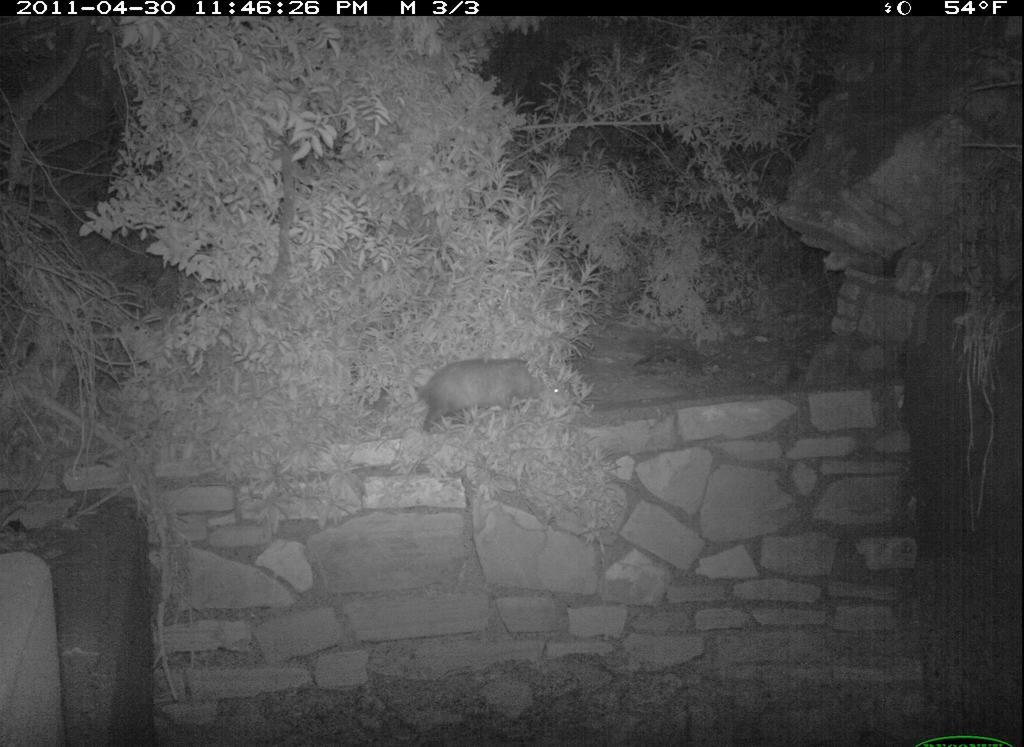opossum: (391, 341, 594, 457)
